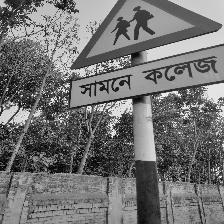College-in-front: (69, 0, 224, 127)
